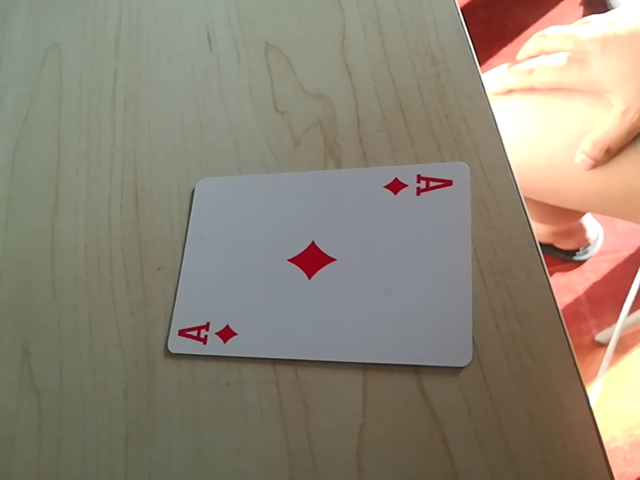fk a: (171, 317, 241, 352), (381, 172, 455, 201)
